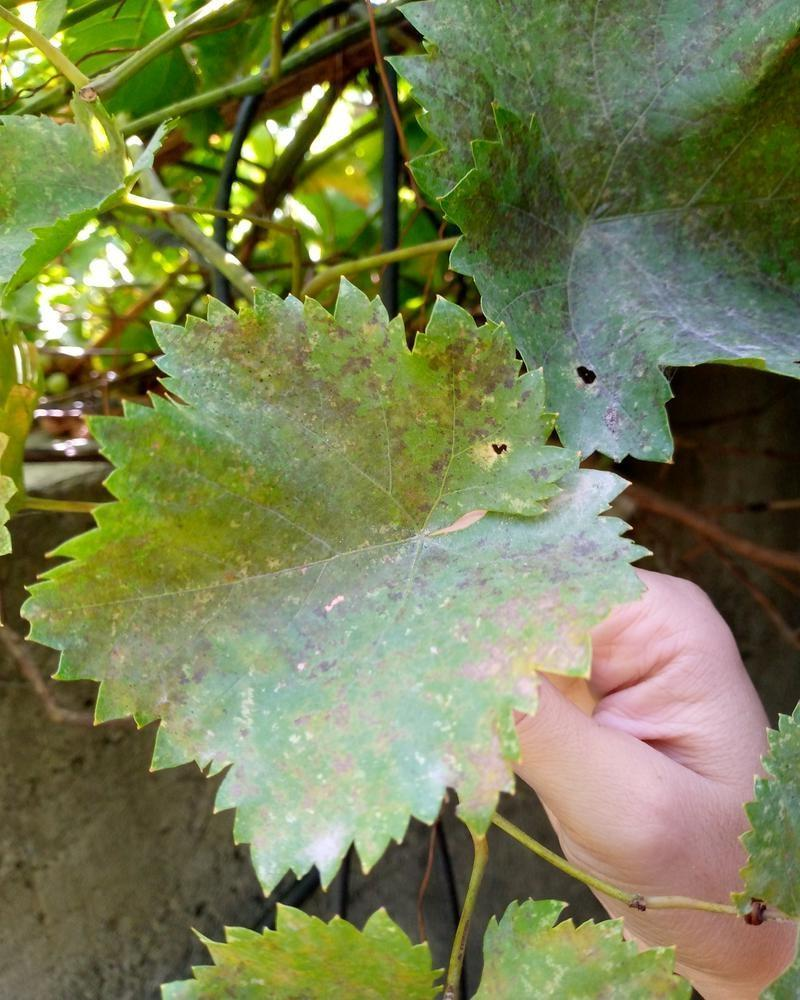Powdery-Mildew: (131, 594, 282, 798), (452, 594, 597, 714), (511, 469, 615, 586), (466, 424, 529, 487), (436, 498, 499, 561), (280, 808, 343, 871), (453, 740, 516, 802)
